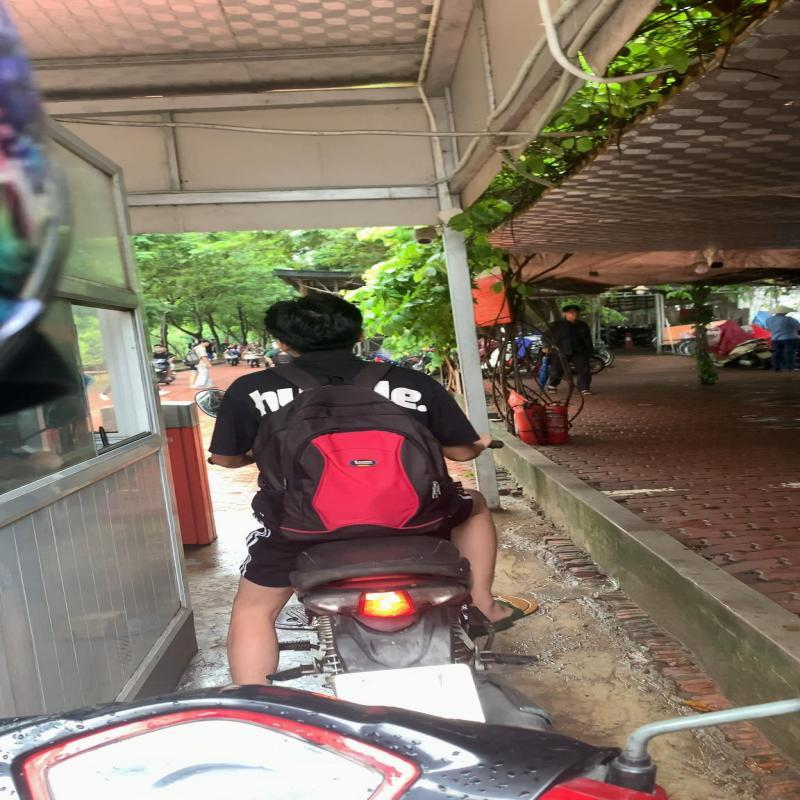nohelmet: (254, 286, 384, 358)
